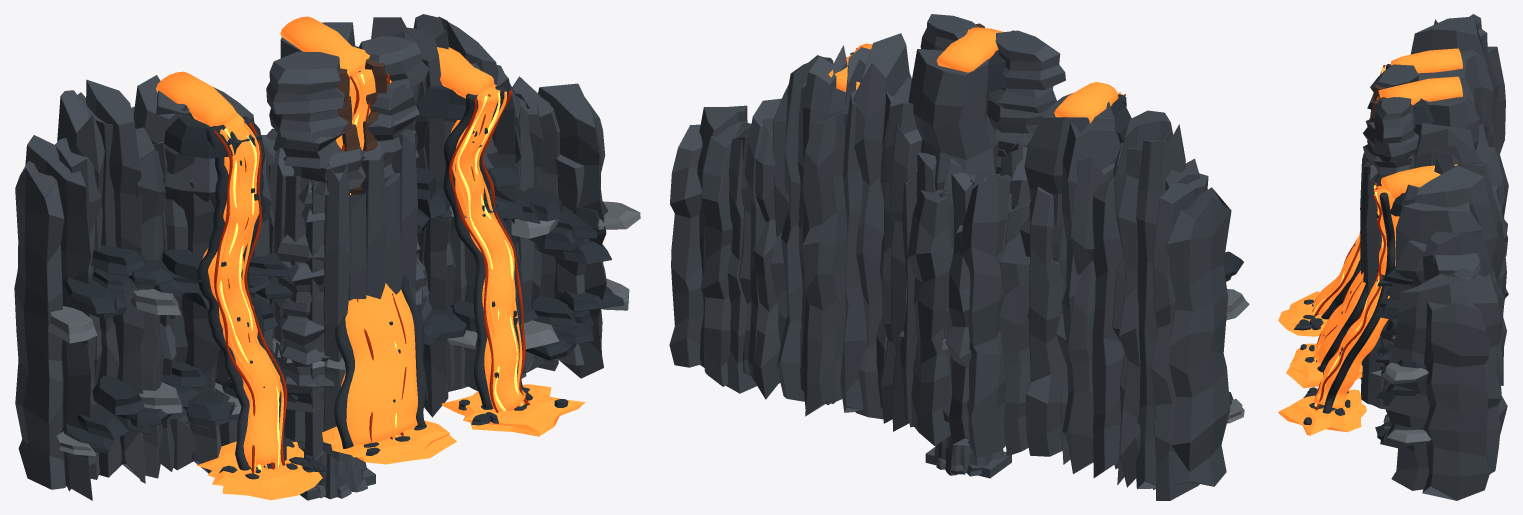
File: cindercoil-hero-kit-v7.glb
3 renders of one model, left to right at view 1: azimuth 30°, elevation 25°; view 2: azimuth 150°, elevation 25°; view 3: azimuth 270°, elevation 25°, orthographic. The views are drawn at different scales.
Visible parts, largest first — view 1: rupture_wall__Basalt, rupture_wall__Blackglass, hollow_tower__Basalt, cascade_0__Lava, cascade_1__Lava, rupture_left__Basalt, cascade_2__Lava, rupture_wall__Ash, cascade_0__Blackglass, rupture_right__Basalt, cascade_2__Blackglass, cascade_1__Blackglass (+7 smaller); view 2: rupture_wall__Basalt, rupture_left__Basalt, hollow_tower__Basalt, cascade_1__Lava, cascade_0__Lava, spill_crater__Basalt, rupture_wall__Blackglass, rupture_right__Basalt, rupture_wall__Ash; view 3: rupture_wall__Basalt, cascade_2__Lava, cascade_1__Lava, rupture_right__Basalt, hollow_tower__Basalt, cascade_0__Lava, rupture_wall__Blackglass, cascade_2__Blackglass, rupture_wall__Ash, rupture_left__Basalt, cascade_1__Blackglass, cascade_0__Blackglass (+2 smaller).
Boxes of the visible parts, box(x1,y1,x2,y2) form: rupture_wall__Basalt: box(14, 14, 606, 500); rupture_wall__Blackglass: box(61, 46, 623, 453); hollow_tower__Basalt: box(262, 128, 417, 461); cascade_0__Lava: box(156, 71, 322, 500); cascade_1__Lava: box(280, 16, 456, 464); rupture_left__Basalt: box(266, 51, 365, 412); cascade_2__Lava: box(437, 47, 585, 436); rupture_wall__Ash: box(47, 201, 640, 456); cascade_0__Blackglass: box(197, 116, 327, 479); rupture_right__Basalt: box(349, 36, 432, 328); cascade_2__Blackglass: box(443, 85, 568, 425); cascade_1__Blackglass: box(334, 275, 426, 455); rupture_wall__Basalt: box(669, 33, 1231, 500); rupture_left__Basalt: box(987, 30, 1065, 173); hollow_tower__Basalt: box(900, 141, 1027, 431); cascade_1__Lava: box(936, 27, 1003, 72); cascade_0__Lava: box(1054, 82, 1121, 123); spill_crater__Basalt: box(933, 435, 1003, 476); rupture_wall__Blackglass: box(942, 48, 1243, 405); rupture_right__Basalt: box(920, 14, 977, 50); rupture_wall__Ash: box(1226, 289, 1249, 423); rupture_wall__Basalt: box(1385, 14, 1508, 500); cascade_2__Lava: box(1278, 164, 1457, 435); cascade_1__Lava: box(1286, 76, 1462, 388); rupture_right__Basalt: box(1363, 97, 1418, 369); hollow_tower__Basalt: box(1360, 152, 1390, 409); cascade_0__Lava: box(1278, 48, 1462, 336); rupture_wall__Blackglass: box(1373, 105, 1435, 448); cascade_2__Blackglass: box(1303, 183, 1395, 424); rupture_wall__Ash: box(1370, 334, 1431, 446); rupture_left__Basalt: box(1365, 64, 1418, 161); cascade_1__Blackglass: box(1300, 269, 1368, 372); cascade_0__Blackglass: box(1294, 64, 1390, 330).
Bounding box in the file's own units: 485 × 364 × 215.
